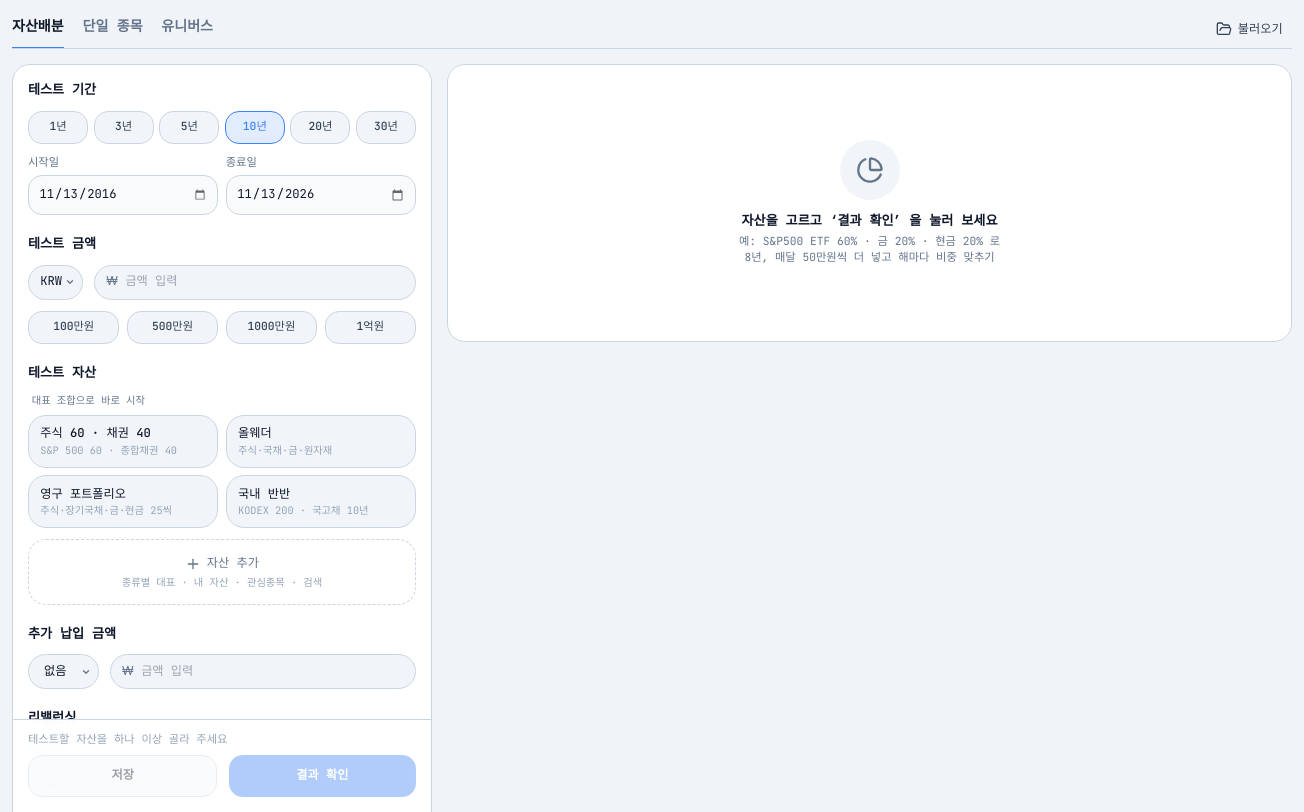
Test: 유니버스는 생존 편향을 말한다 › 목록 이름이 'S&P 500' 이라고 우기지 않는다
Click the tab "유니버스".
click(187, 30)  # box [161,12,213,49]
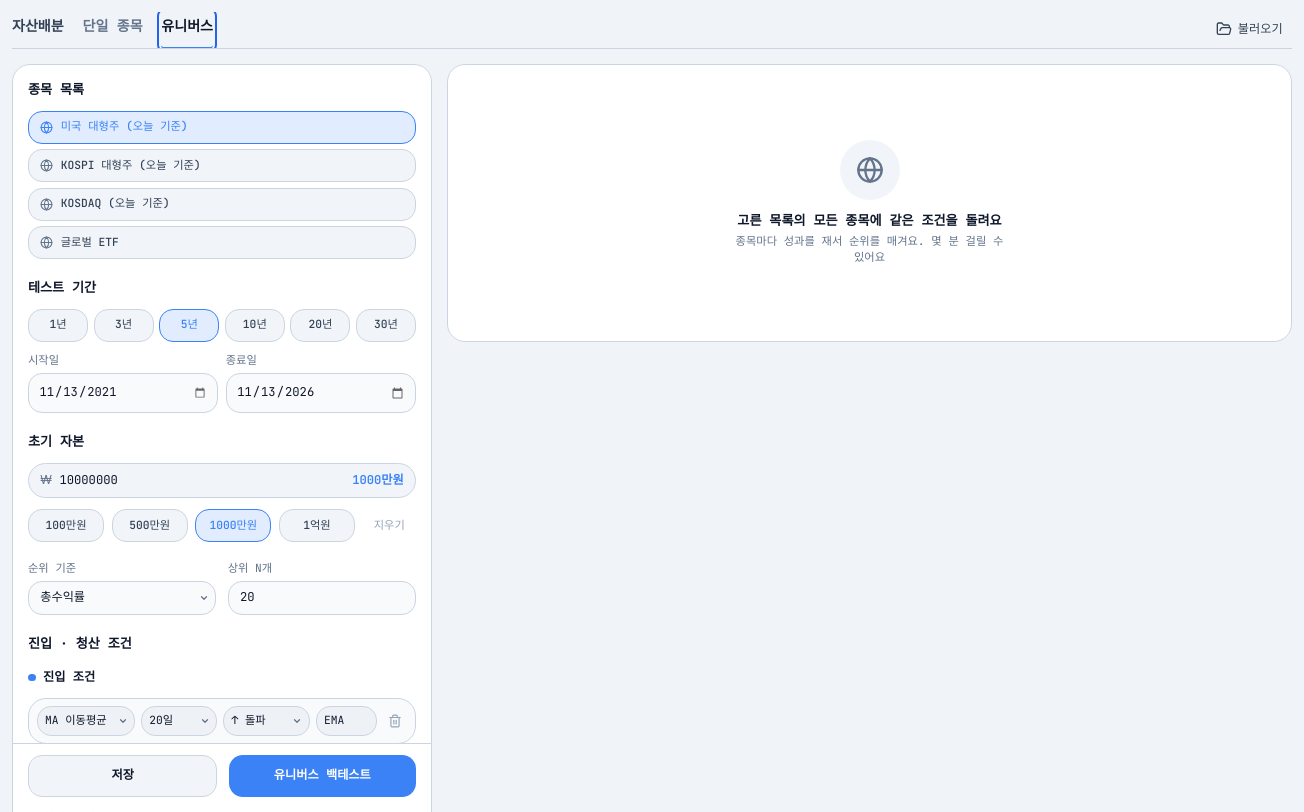
Check: the button "S&P 500" is gone
Check: the button "미국 대형주 (오늘 기준)" is shown, box [28,111,416,144]
